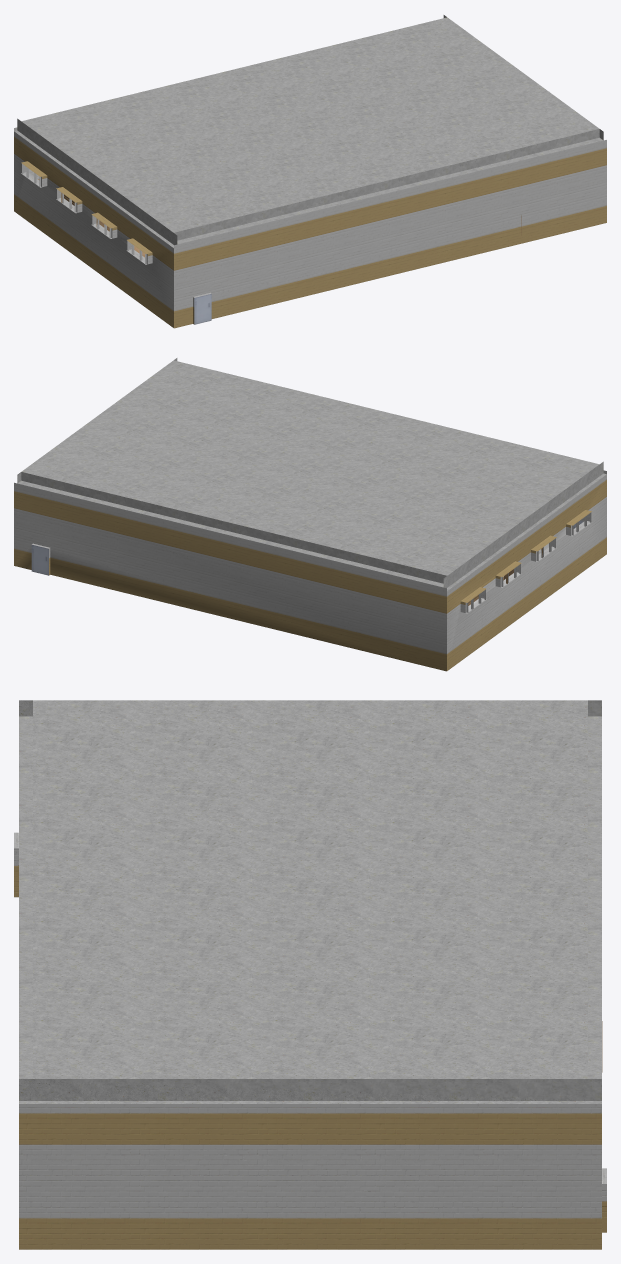
File: WallbangReady.fbx
3 renders of one model, top to bottom at view 1: azimuth 30°, elevation 25°; view 2: azimuth 150°, elevation 25°; view 3: azimuth 270°, elevation 25°, orthographic. The views are drawn at different scales.
Visible parts, largest first — view 1: Main; view 2: Main; view 3: Main.
Boxes of the visible parts, box(x1,y1,x2,y2) form: Main: box(14, 15, 606, 328); Main: box(14, 358, 606, 671); Main: box(14, 700, 606, 1249).
Size of the model in its own units: 3539 by 708 by 2270.
7 materials, 7 textured.
